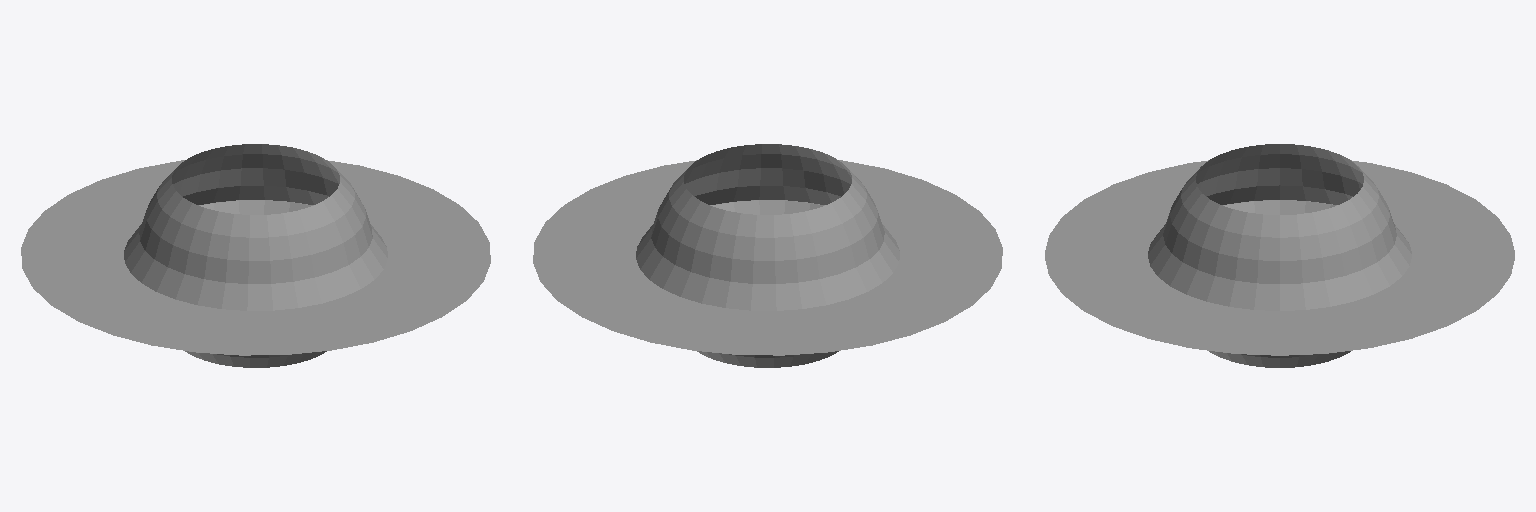
File: PlanetIcon.obj
3 views of the same model, side by side, from view 1: azimuth 30°, elevation 25°; view 2: azimuth 150°, elevation 25°; view 3: azimuth 270°, elevation 25° (orthographic).
Visible parts, largest first — view 1: Grid_Circle.002, Overlay_Sphere; view 2: Grid_Circle.002, Overlay_Sphere; view 3: Grid_Circle.002, Overlay_Sphere.
Boxes of the visible parts, <box> form: Grid_Circle.002: <box>21,160,490,355</box>; Overlay_Sphere: <box>124,144,387,367</box>; Grid_Circle.002: <box>533,160,1002,355</box>; Overlay_Sphere: <box>636,144,899,367</box>; Grid_Circle.002: <box>1045,160,1514,355</box>; Overlay_Sphere: <box>1148,144,1411,367</box>.
Bounding box in the file's own units: 3.95 × 1.41 × 3.95.